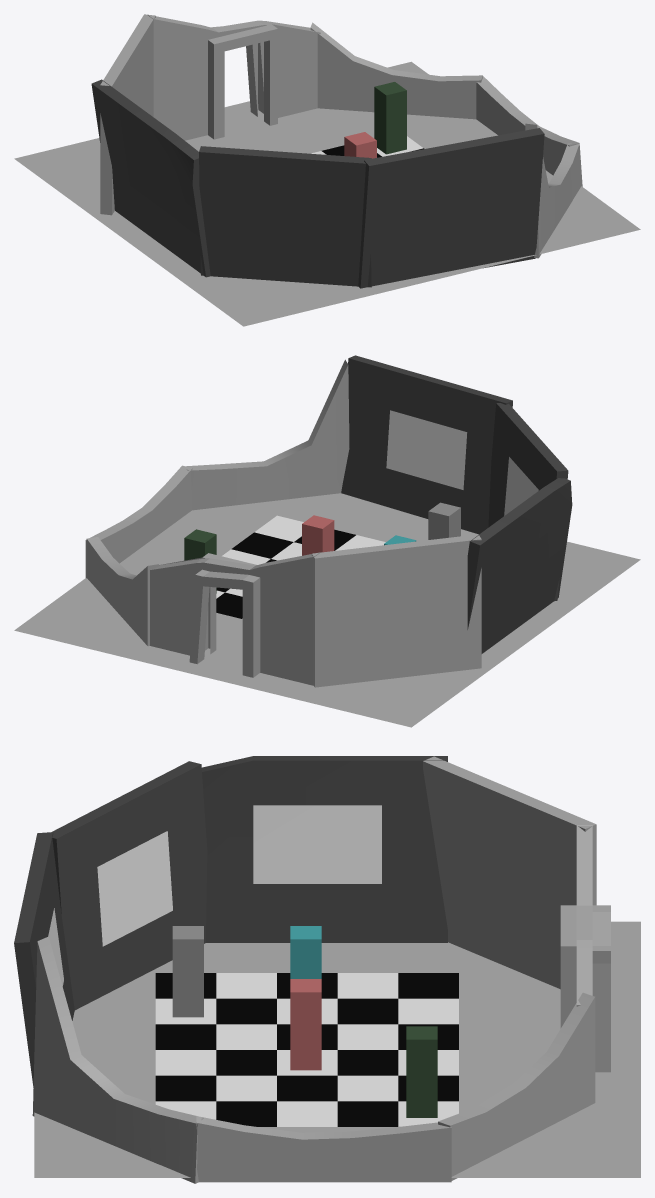
Rendered from LunariTemple.fbx.
The picture shows the model from 3 angles, top to bottom: view 1: azimuth 30°, elevation 25°; view 2: azimuth 150°, elevation 25°; view 3: azimuth 270°, elevation 25°; orthographic projection. The views are drawn at different scales.
Parts seen in each view (by area): view 1: pPlane1, pasted__pCube1, pasted__pasted__pasted__pasted__pasted__pCube1, pCube1, pasted__pasted__pCube1, pasted__pasted__pasted__pasted__pCube1, pasted__pasted__pasted__pCube1, pasted__pCube3, pasted__pasted__pasted__pasted__pCube2, pasted__pasted__pasted__pCube2, pCube2; view 2: pPlane1, pasted__pasted__pasted__pCube1, pasted__pCube1, pCube1, pasted__pasted__pCube1, pasted__pasted__pasted__pasted__pCube2, pasted__pasted__pasted__pasted__pasted__pCube1, pasted__pCube3, pasted__pasted__pasted__pasted__pCube1, pCube2, pasted__pasted__pCube2, pasted__pasted__pasted__pCube2; view 3: pPlane1, pasted__pasted__pCube1, pasted__pasted__pasted__pasted__pasted__pCube1, pasted__pasted__pasted__pCube1, pasted__pCube3, pasted__pasted__pasted__pasted__pCube2, pasted__pasted__pasted__pasted__pCube1, pCube1, pasted__pCube1, pCube2, pasted__pasted__pasted__pCube2, pasted__pasted__pCube2 (+1 smaller).
Boxes of the visible parts, x1,y1,x2,y2 form: pPlane1: [14, 61, 640, 326]; pasted__pCube1: [358, 128, 544, 288]; pasted__pasted__pasted__pasted__pasted__pCube1: [199, 146, 371, 287]; pCube1: [147, 14, 320, 140]; pasted__pasted__pCube1: [91, 79, 210, 277]; pasted__pasted__pasted__pasted__pCube1: [310, 22, 482, 119]; pasted__pasted__pasted__pCube1: [100, 14, 155, 215]; pasted__pCube3: [476, 76, 579, 175]; pasted__pasted__pasted__pasted__pCube2: [525, 123, 582, 258]; pasted__pasted__pasted__pCube2: [374, 82, 406, 154]; pCube2: [344, 132, 376, 158]; pPlane1: [14, 493, 640, 727]; pasted__pasted__pasted__pCube1: [311, 534, 481, 687]; pasted__pCube1: [341, 355, 512, 534]; pCube1: [150, 552, 320, 685]; pasted__pasted__pCube1: [467, 478, 572, 653]; pasted__pasted__pasted__pasted__pCube2: [186, 359, 349, 510]; pasted__pasted__pasted__pasted__pasted__pCube1: [488, 403, 568, 601]; pasted__pCube3: [85, 465, 192, 578]; pasted__pasted__pasted__pasted__pCube1: [86, 537, 158, 646]; pCube2: [302, 515, 334, 555]; pasted__pasted__pCube2: [428, 502, 460, 539]; pasted__pasted__pasted__pCube2: [184, 529, 216, 593]; pPlane1: [34, 921, 640, 1177]; pasted__pasted__pCube1: [201, 756, 447, 942]; pasted__pasted__pasted__pasted__pasted__pCube1: [52, 761, 207, 1010]; pasted__pasted__pasted__pCube1: [423, 756, 596, 989]; pasted__pCube3: [196, 1116, 451, 1182]; pasted__pasted__pasted__pasted__pCube2: [32, 936, 203, 1183]; pasted__pasted__pasted__pasted__pCube1: [438, 992, 595, 1180]; pCube1: [560, 825, 610, 1072]; pasted__pCube1: [14, 832, 74, 1087]; pCube2: [290, 979, 321, 1070]; pasted__pasted__pasted__pCube2: [406, 1026, 437, 1117]; pasted__pasted__pCube2: [172, 926, 203, 1017].
Size of the model in its own units: 19.42 by 6.24 by 19.95.
